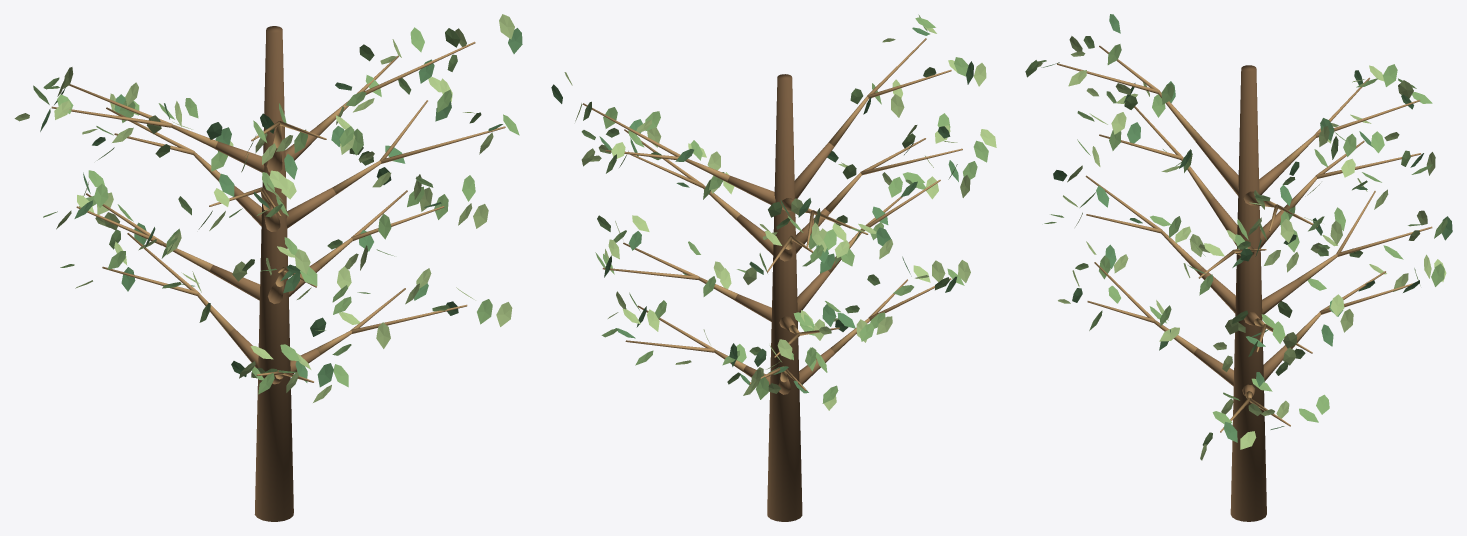
File: leafy_sapling_c.glb
3 views of the same model, side by side, from view 1: azimuth 30°, elevation 25°; view 2: azimuth 150°, elevation 25°; view 3: azimuth 270°, elevation 25° (orthographic). The views are drawn at different scales.
Parts seen in each view (by area): view 1: leafy_sapling_c_trunk, leafy_sapling_c_branch_2_0_a, leafy_sapling_c_branch_3_1_a, leafy_sapling_c_branch_1_1_a; view 2: leafy_sapling_c_trunk, leafy_sapling_c_branch_3_2_a, leafy_sapling_c_branch_3_0_a; view 3: leafy_sapling_c_trunk, leafy_sapling_c_branch_3_2_a, leafy_sapling_c_branch_1_1_a, leafy_sapling_c_branch_0_2_a.
Part boxes in pixels (left/top/right/bottom): leafy_sapling_c_trunk: left=254, top=26, right=293, bottom=521; leafy_sapling_c_branch_2_0_a: left=286, top=188, right=336, bottom=228; leafy_sapling_c_branch_3_1_a: left=215, top=141, right=264, bottom=172; leafy_sapling_c_branch_1_1_a: left=210, top=265, right=260, bottom=300; leafy_sapling_c_trunk: left=767, top=74, right=802, bottom=521; leafy_sapling_c_branch_3_2_a: left=794, top=142, right=834, bottom=198; leafy_sapling_c_branch_3_0_a: left=727, top=175, right=775, bottom=204; leafy_sapling_c_trunk: left=1230, top=65, right=1266, bottom=521; leafy_sapling_c_branch_3_2_a: left=1196, top=137, right=1238, bottom=195; leafy_sapling_c_branch_1_1_a: left=1262, top=279, right=1300, bottom=314; leafy_sapling_c_branch_0_2_a: left=1193, top=348, right=1233, bottom=386.
Size of the model in its own units: 1.42 by 1.49 by 1.29.
